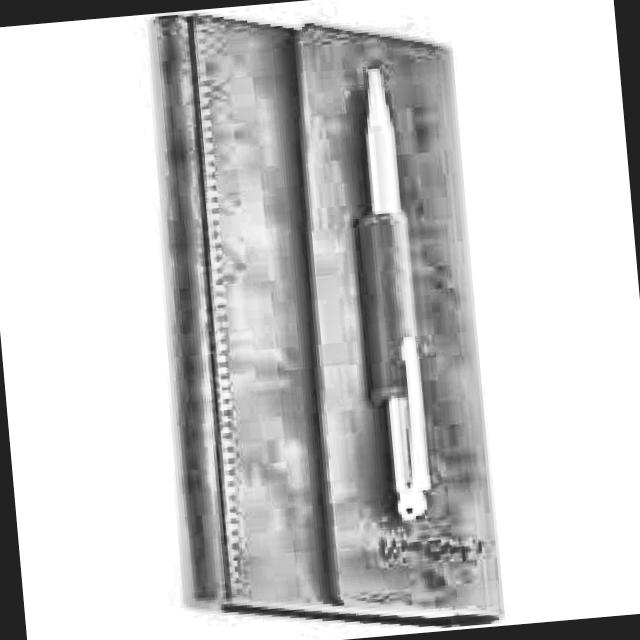Notebook: (89, 0, 567, 640)
Pen: (323, 59, 461, 530)
